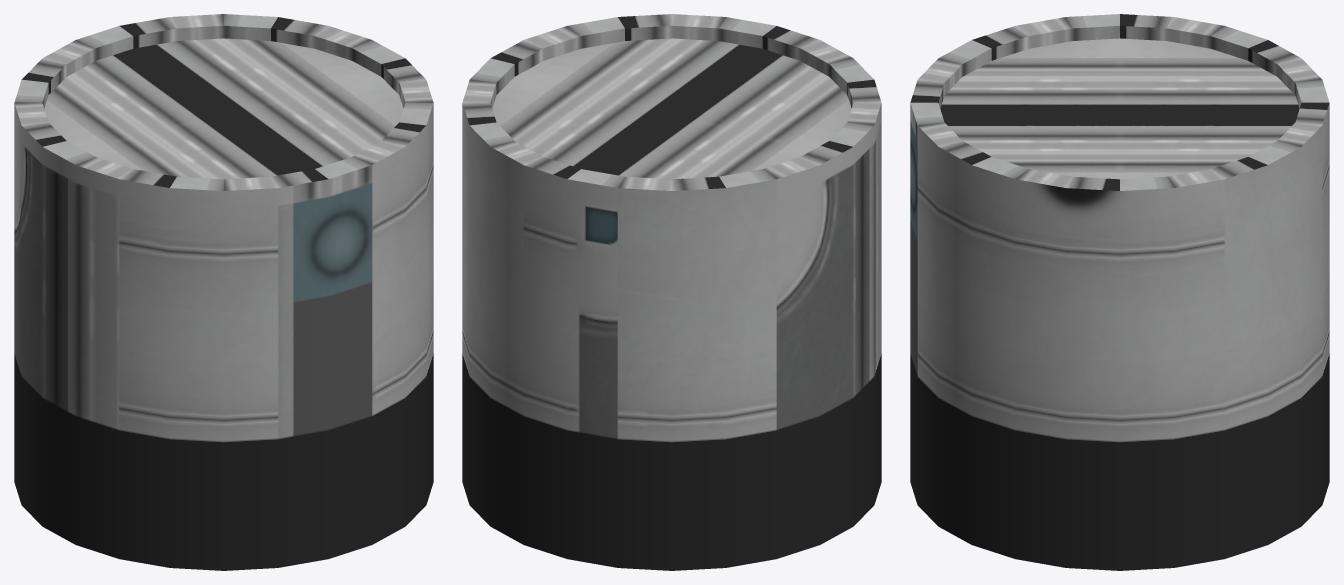
The model's file is aquila_crew_s1p5_2_2.obj.
The picture shows the model from 3 angles, left to right: view 1: azimuth 30°, elevation 25°; view 2: azimuth 150°, elevation 25°; view 3: azimuth 270°, elevation 25°; orthographic projection.
Visible parts, largest first — view 1: aquila_crew_s1p5_2_2; view 2: aquila_crew_s1p5_2_2; view 3: aquila_crew_s1p5_2_2.
Boxes of the visible parts, bbox=[...] form: aquila_crew_s1p5_2_2: bbox=[14, 14, 433, 570]; aquila_crew_s1p5_2_2: bbox=[462, 14, 881, 570]; aquila_crew_s1p5_2_2: bbox=[910, 14, 1329, 570].
Size of the model in its own units: 1.88 by 1.88 by 1.88.
